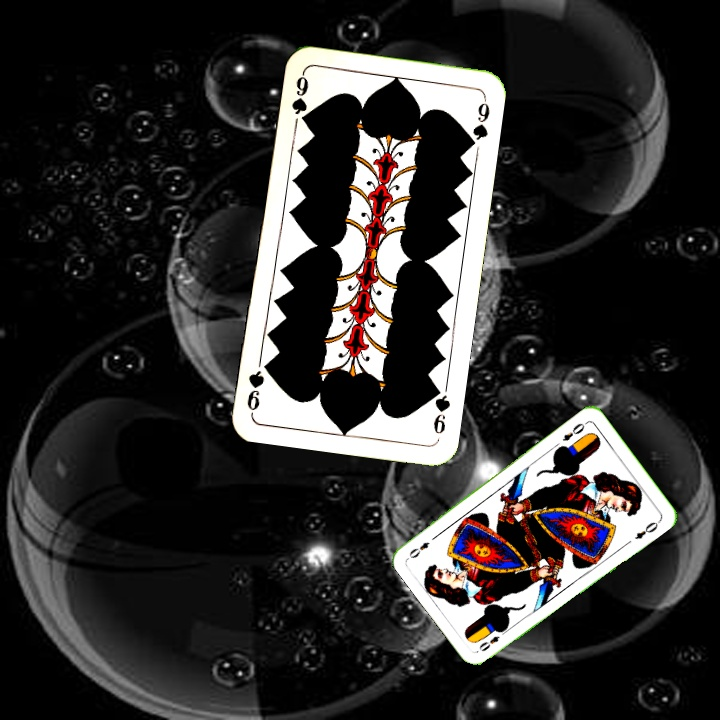EO: (475, 625, 510, 654), (558, 418, 590, 444)
G9: (288, 70, 311, 129), (429, 381, 453, 437)
